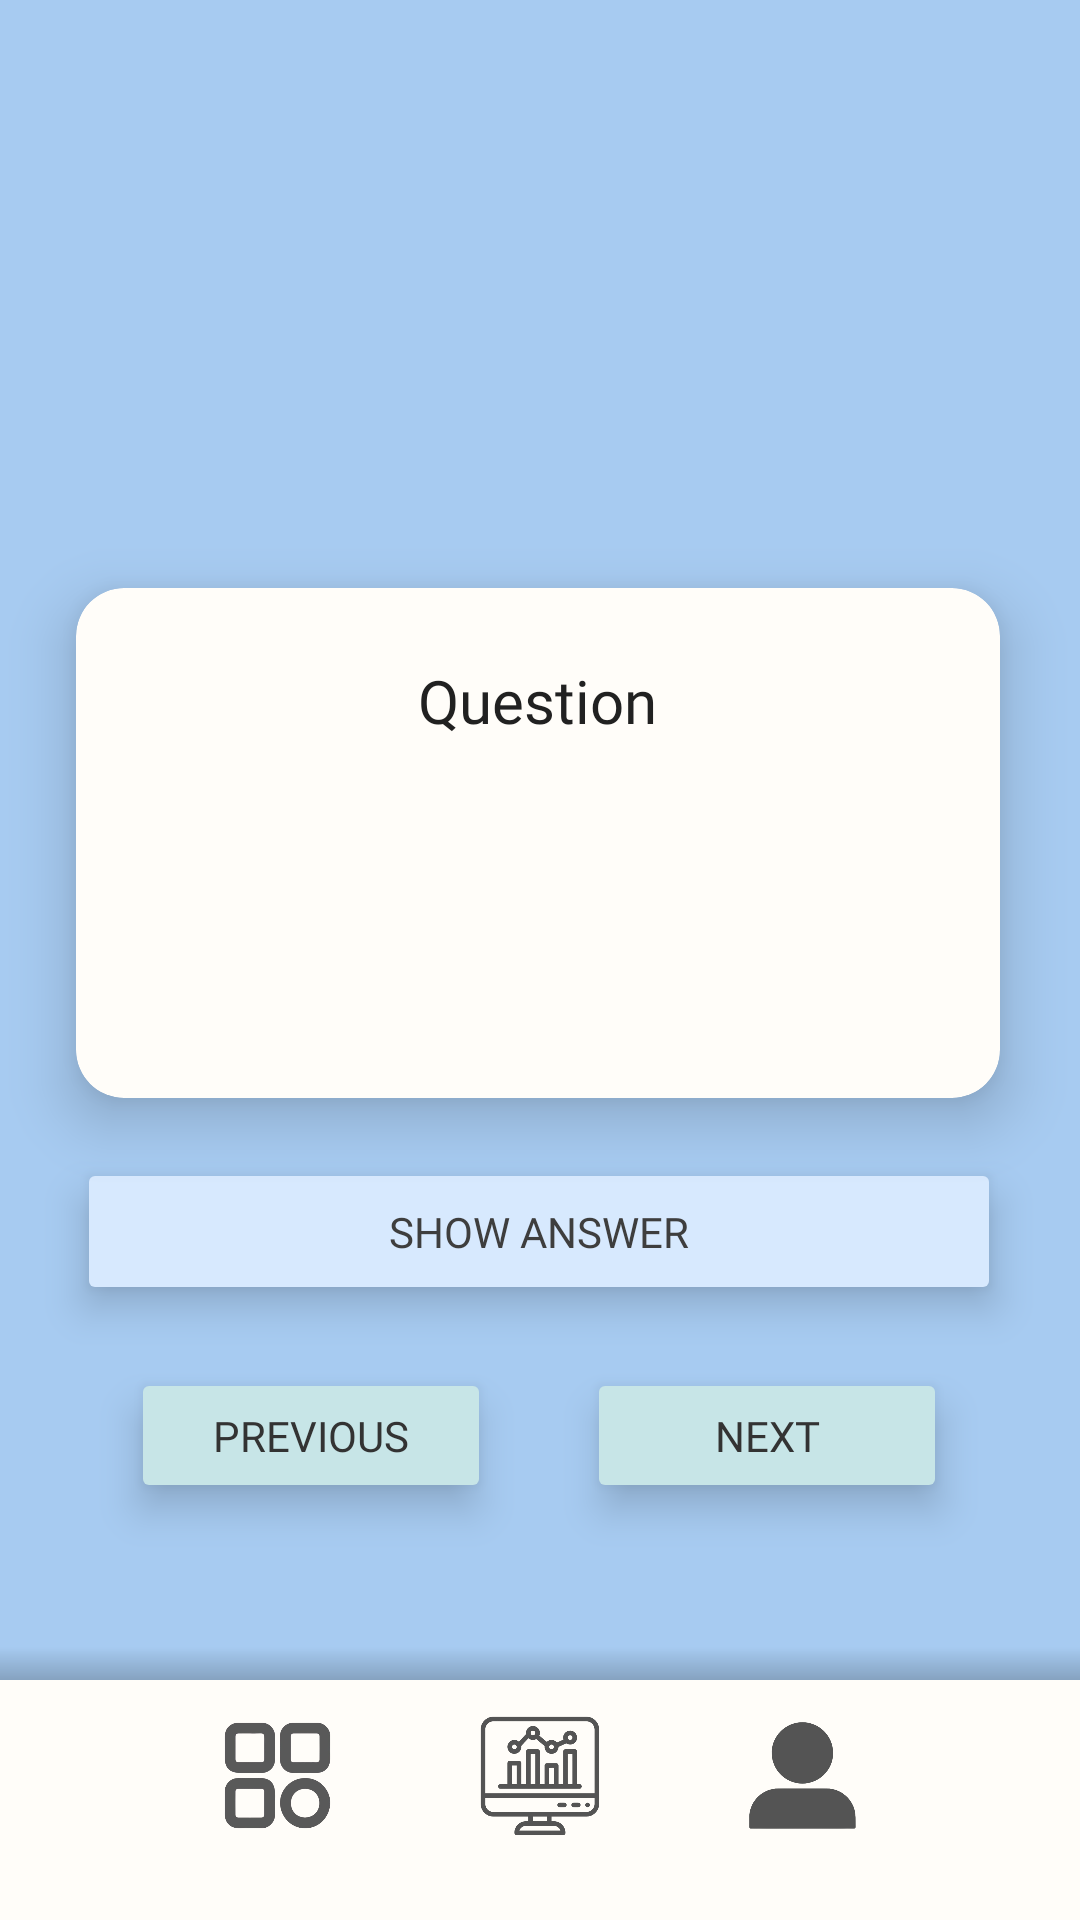

Screen size 1080px x 1920px. Icon name, then its box in pixels as bbox=[x1, y1, x2, y2]:
dashboard: bbox=[225, 1723, 330, 1828]
progress: bbox=[481, 1717, 599, 1835]
user: bbox=[749, 1722, 856, 1829]
